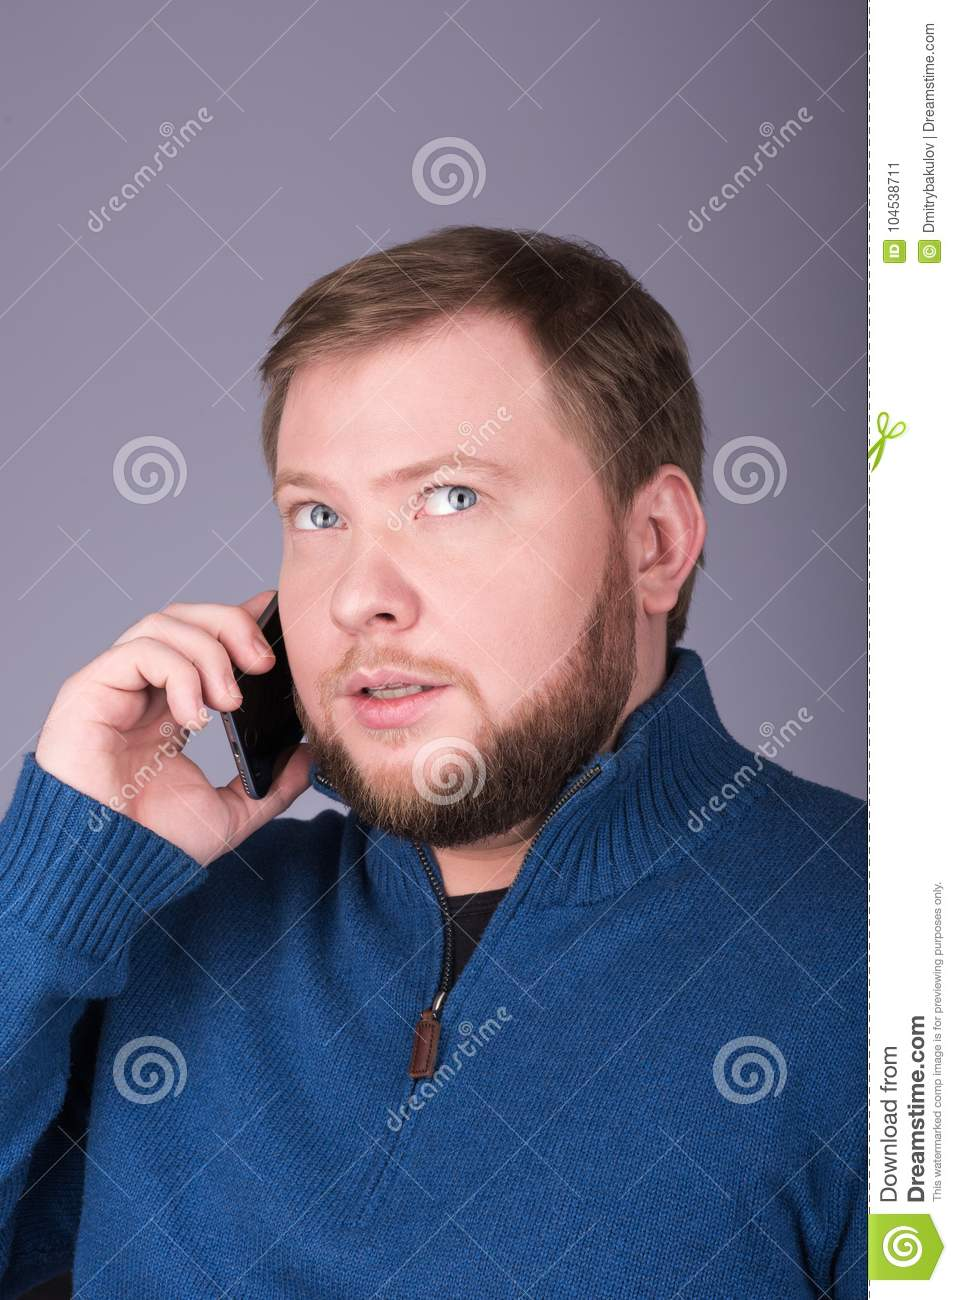phone: (213, 577, 313, 804)
talk: (24, 425, 557, 874)
